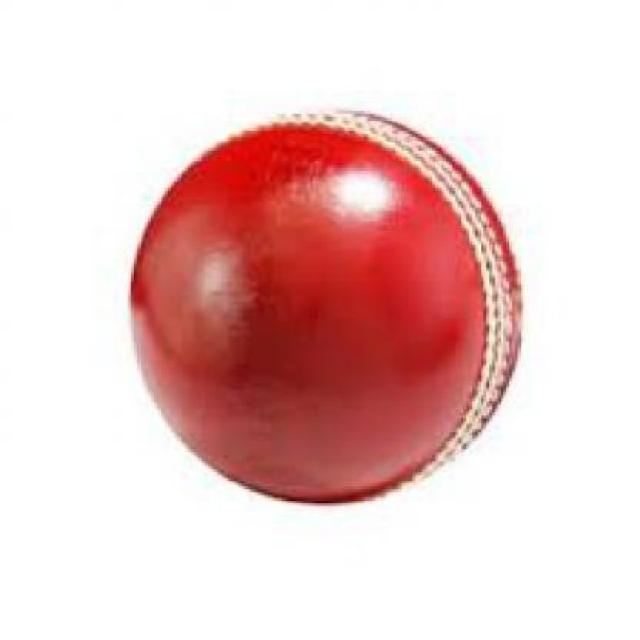ball: (102, 85, 556, 562)
